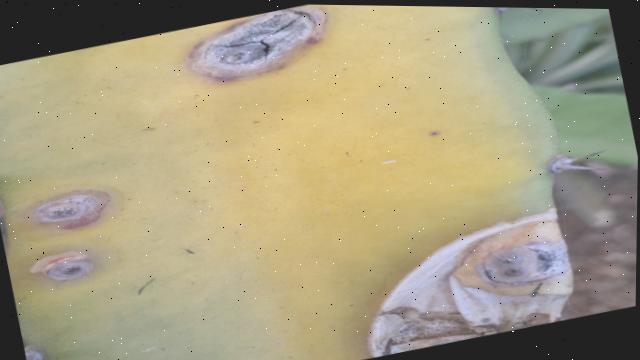stemcanker: (177, 6, 332, 90), (460, 232, 571, 300), (22, 186, 115, 235), (28, 249, 99, 288)
